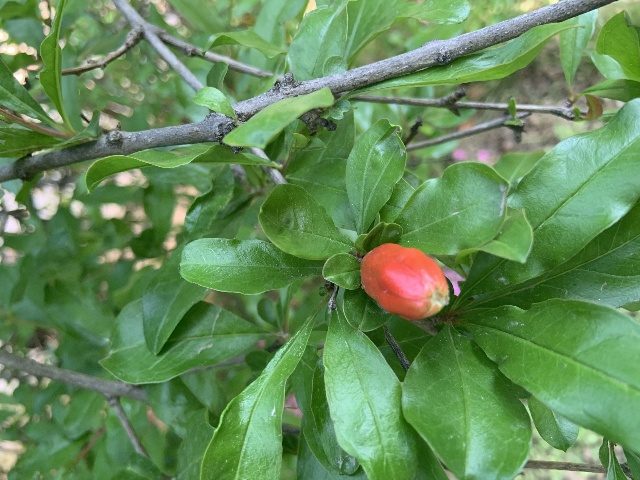bud: (360, 243, 448, 321)
